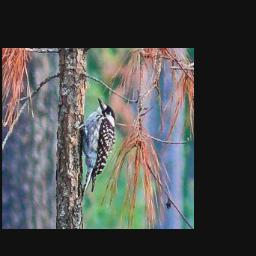Woodpecker: (68, 92, 122, 204)
